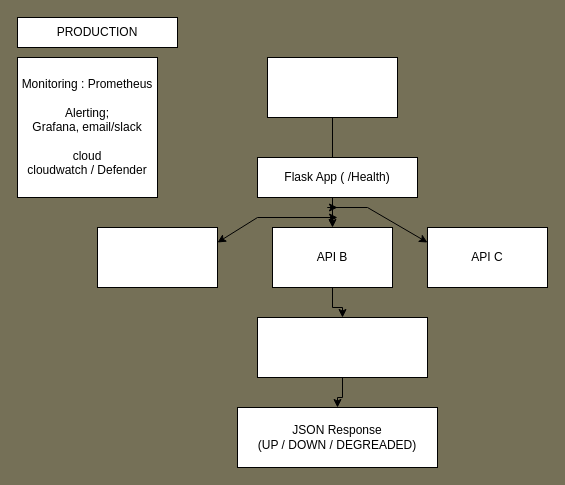
The diagram is 565 pixels wide and 485 high, and some of its shapes have lost their labels. The shapes that lost their labels are listed below. From the top down, each one's box as (x1, y1, x2, y2) in pixels, then its label:
(266, 56, 398, 118): Client / Browser
(96, 226, 218, 288): API A
(256, 316, 428, 378): Health Agggregator
